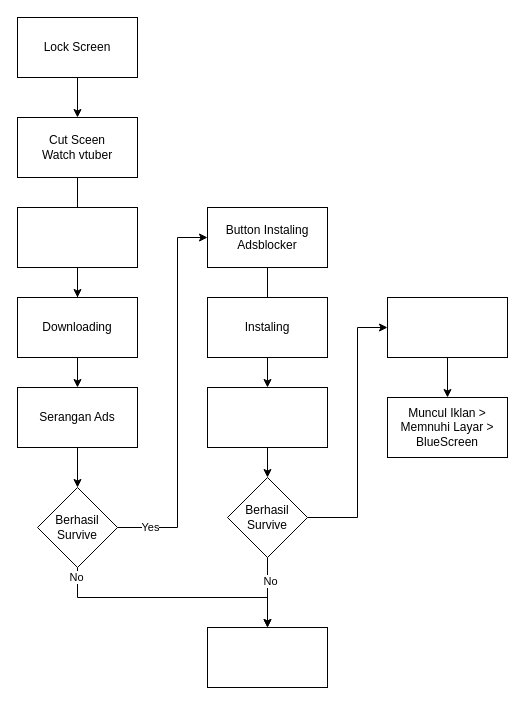
The diagram is 525 pixels wide and 705 high, and some of its shapes have lost their labels. The box of each missing label's shape, as (x1, y1, x2, y2) in pixels:
Button Download Ads blocker: (16, 206, 138, 268)
Gameover: (206, 626, 328, 688)
Notifikation "Virus berhasil terinstal": (386, 296, 508, 358)
Serangan Ads Lvl 2: (206, 386, 328, 448)
